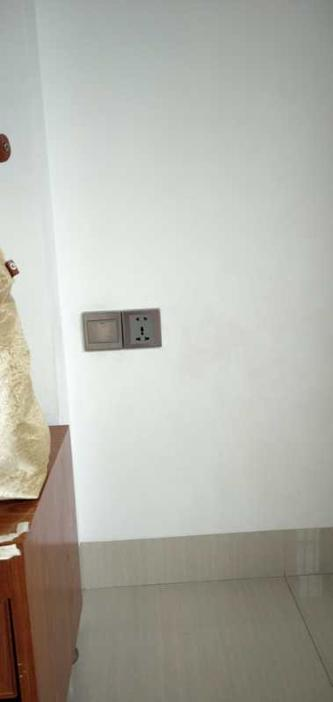switch: (83, 314, 123, 345)
